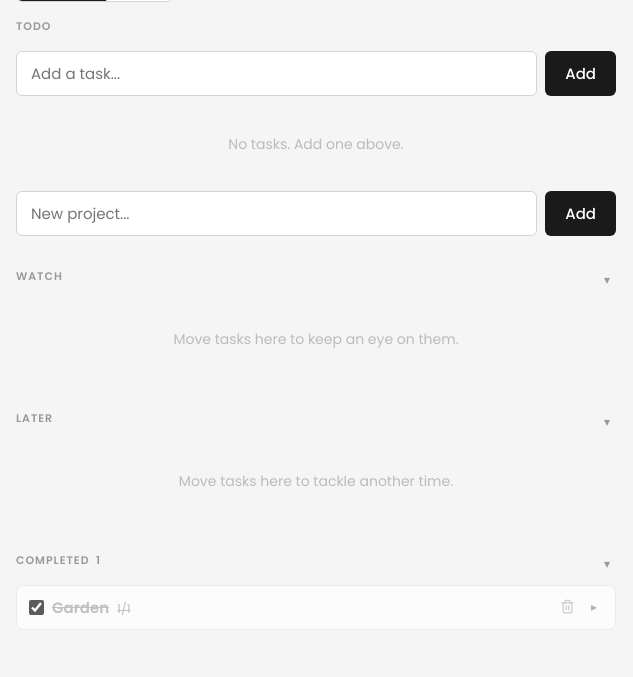
Test: sub-task and project consistency › reopens a completed project when one of its sub-tasks is unchecked
(page scrolled)
Completed projects start collapsed, so open it to reach the sub-task.
Click the button named "Expand project": (594, 608) [585,598,603,618]
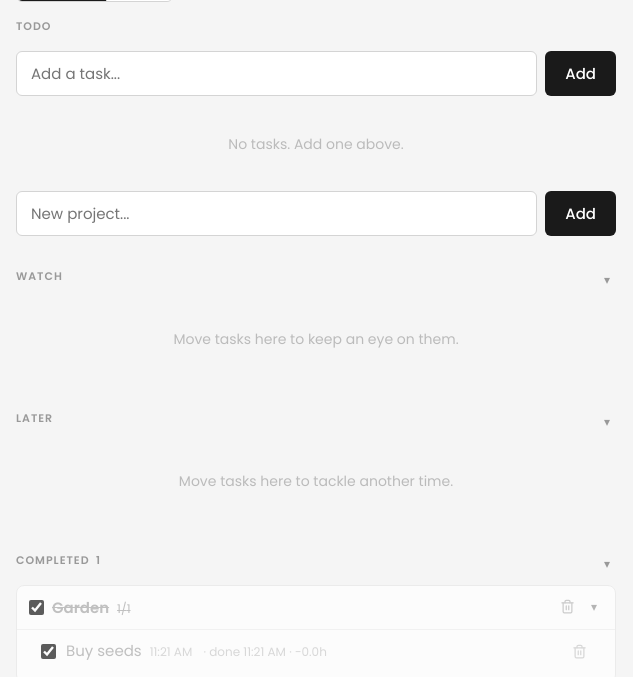
Expected: the checkbox next to "Garden" is checked, [29,600,44,615]
Now the checkbox next to "Buy seeds" is checked
Click the checkbox next to "Buy seeds": (48, 651) [41,644,56,659]
(page scrolled)
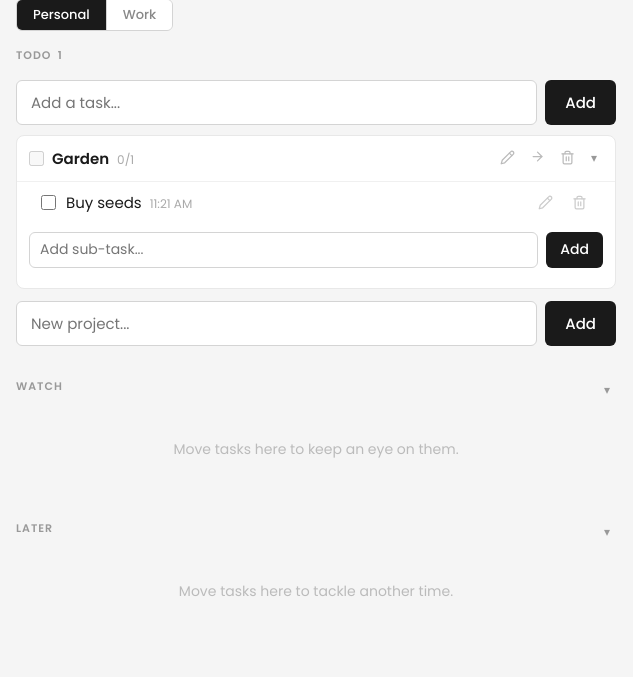
Now the text "Buy seeds" is shown, box [66,192,142,213]
Now the checkbox named "Complete all sub-tasks first" is not checked, box [29,151,44,166]
